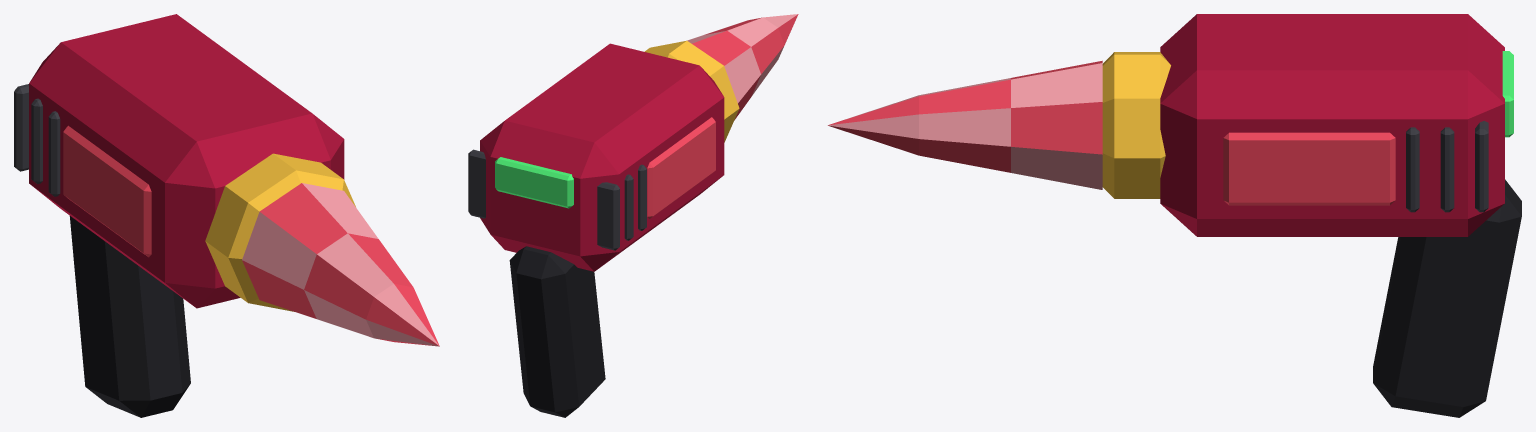
Rendered from RubyDrill.fbx.
3 renders of one model, left to right at view 1: azimuth 30°, elevation 25°; view 2: azimuth 150°, elevation 25°; view 3: azimuth 270°, elevation 25°, orthographic. The views are drawn at different scales.
Visible parts, largest first — view 1: RubyDrill; view 2: RubyDrill; view 3: RubyDrill.
Part boxes in pixels (box(x1,y1,x2,y2)): RubyDrill: box(14, 14, 439, 417); RubyDrill: box(468, 14, 798, 417); RubyDrill: box(827, 14, 1521, 417).
Size of the model in its own units: 0.97 by 1.77 by 3.02.
Materials: 1 (1 with a texture image).
